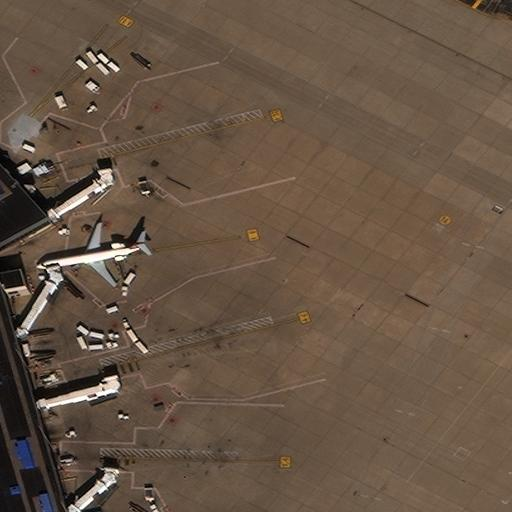Medium Civil Transport: (37, 223, 144, 287)
